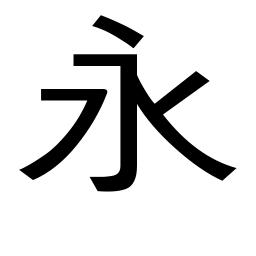D: (91, 14, 145, 48)
HSZ: (113, 52, 141, 77)
Hs: (71, 52, 93, 69)
Ne: (200, 155, 240, 185)
PNc: (142, 93, 173, 127)
PZe: (18, 153, 56, 182)
Ps: (183, 67, 210, 95)
SG: (88, 165, 140, 194)
Sm: (118, 118, 139, 151)
TPZ: (79, 87, 108, 111)
Ts: (38, 87, 63, 103)
